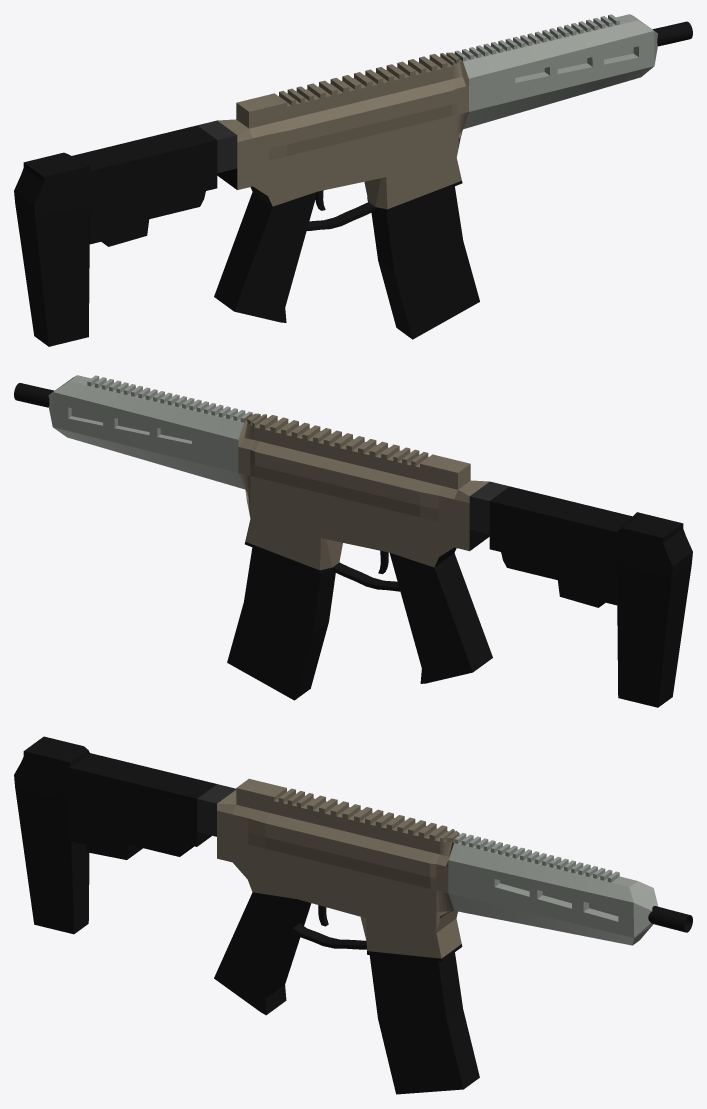
The model's file is Gun.fbx.
3 views of the same model, one above another, from view 1: azimuth 30°, elevation 25°; view 2: azimuth 150°, elevation 25°; view 3: azimuth 330°, elevation 25° (orthographic).
Visible parts, largest first — view 1: Cube; view 2: Cube; view 3: Cube.
Part boxes in pixels (x1,y1,x2,y2): Cube: (14,14,692,346); Cube: (14,375,692,707); Cube: (14,736,692,1094).
Bounding box in the file's own units: 441 × 169 × 25.36.
